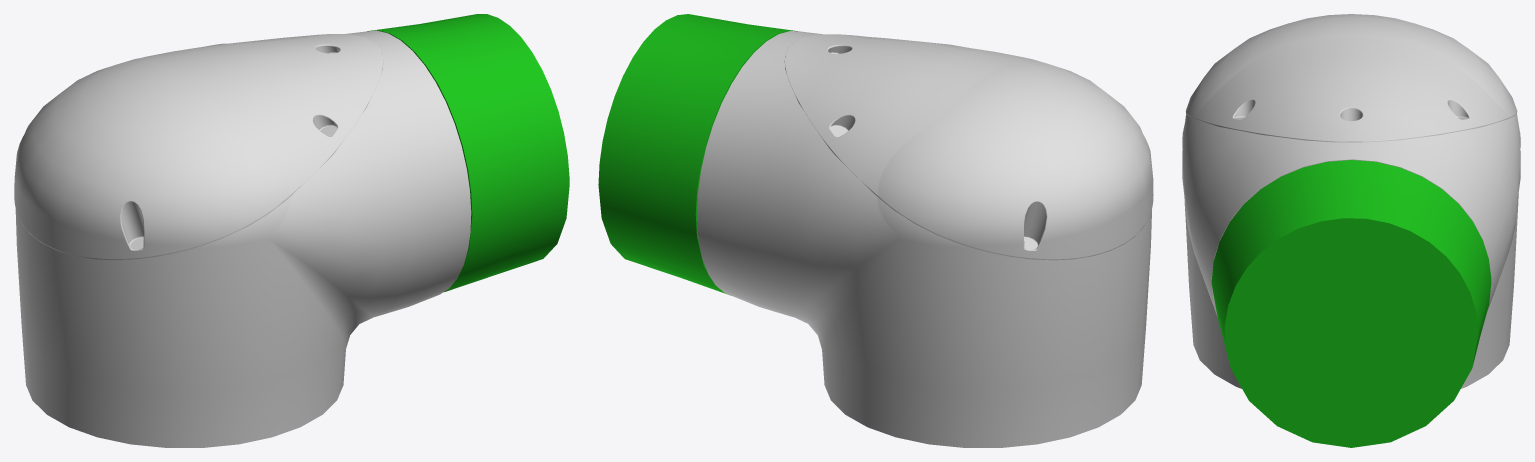
3 renders of one model, left to right at view 1: azimuth 30°, elevation 25°; view 2: azimuth 150°, elevation 25°; view 3: azimuth 270°, elevation 25°, orthographic.
Parts seen in each view (by area): view 1: CRX-10iAL_Axis3; view 2: CRX-10iAL_Axis3; view 3: CRX-10iAL_Axis3.
Part boxes in pixels (<box>): CRX-10iAL_Axis3: <box>14,14,569,447</box>; CRX-10iAL_Axis3: <box>598,14,1153,447</box>; CRX-10iAL_Axis3: <box>1182,14,1520,447</box>.
Size of the model in its own units: 0.2235 by 0.1402 by 0.1389.
